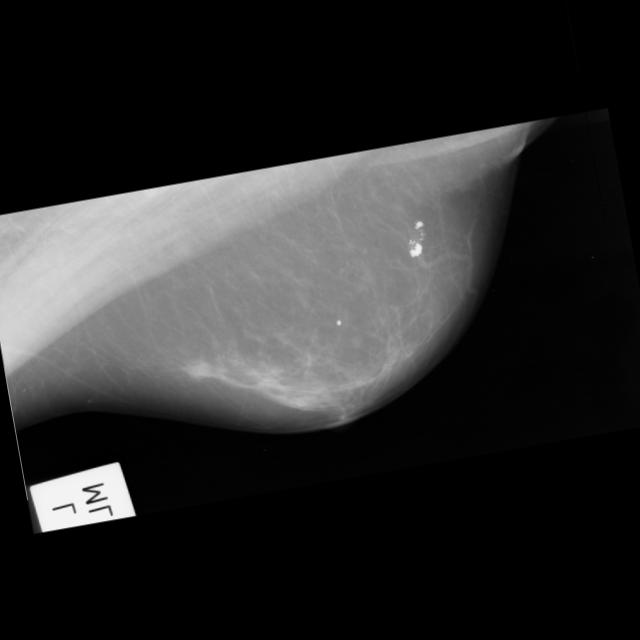ASYM: (12, 381, 259, 640)
